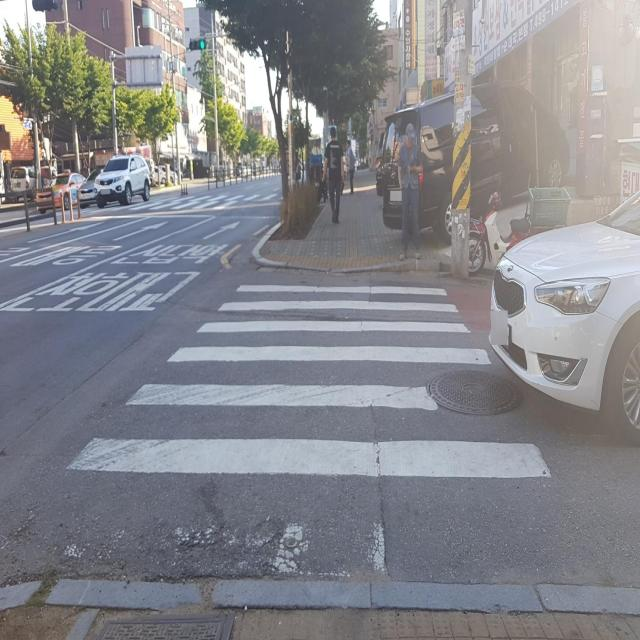횡단보도: (64, 278, 554, 485), (131, 191, 281, 214)
